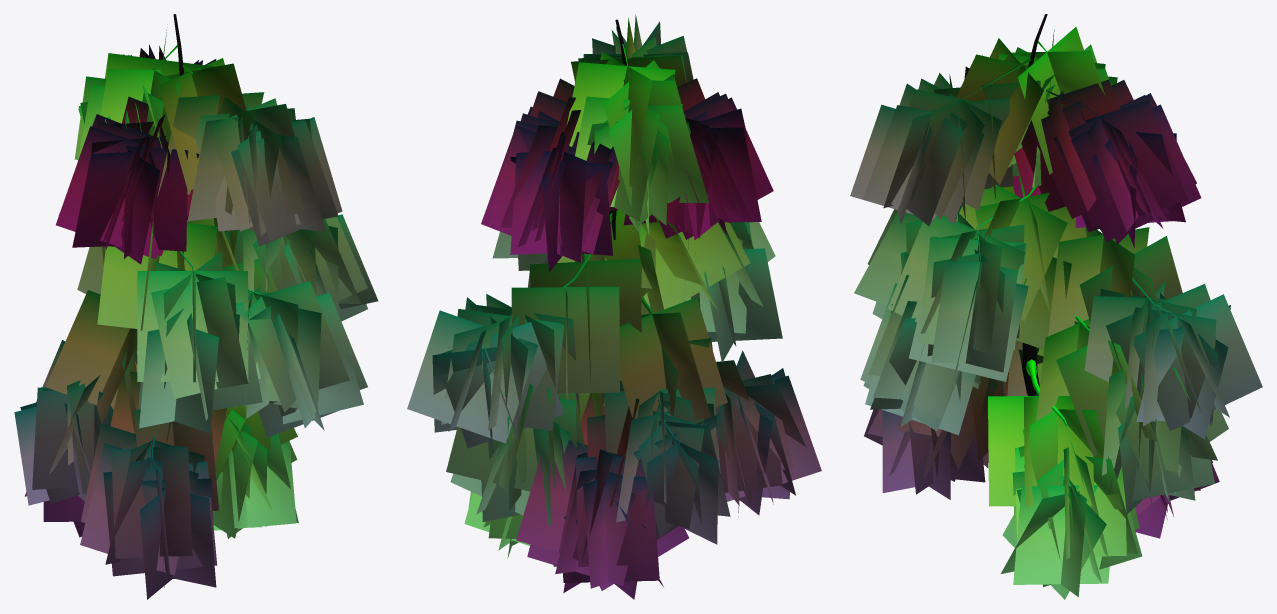
The model's file is URP_P13_Tree_9_LOD_0.fbx.
3 views of the same model, side by side, from view 1: azimuth 30°, elevation 25°; view 2: azimuth 150°, elevation 25°; view 3: azimuth 270°, elevation 25° (orthographic).
Visible parts, largest first — view 1: Tree_9_LOD_0; view 2: Tree_9_LOD_0; view 3: Tree_9_LOD_0.
Boxes of the visible parts, left/top/right/bottom form: Tree_9_LOD_0: left=14, top=14, right=378, bottom=599; Tree_9_LOD_0: left=407, top=15, right=821, bottom=599; Tree_9_LOD_0: left=850, top=14, right=1262, bottom=599.
Bounding box in the file's own units: 332 × 622 × 422.
